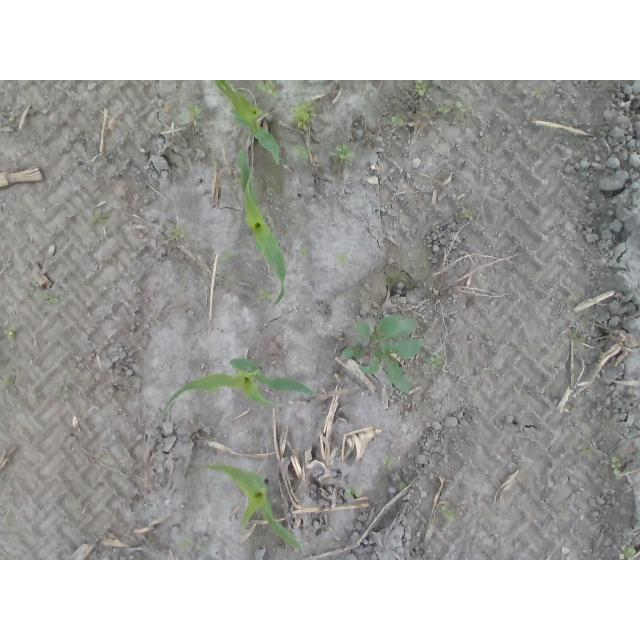Maize: (164, 357, 317, 420), (198, 463, 304, 552), (234, 149, 288, 309), (212, 80, 280, 165)
Weeds: (341, 313, 430, 395), (286, 102, 316, 127), (328, 145, 357, 167), (178, 534, 207, 554), (435, 102, 468, 119), (256, 85, 281, 102), (182, 106, 202, 127), (292, 145, 313, 161), (618, 544, 637, 561), (39, 291, 62, 305), (429, 354, 445, 374), (89, 211, 111, 225), (342, 488, 362, 502), (413, 80, 429, 97), (441, 503, 456, 521), (257, 287, 276, 301), (611, 456, 624, 476), (381, 455, 396, 472), (219, 252, 240, 264), (570, 331, 588, 345), (390, 114, 407, 128), (168, 225, 183, 240), (101, 449, 116, 464), (336, 254, 353, 266), (298, 245, 310, 259), (1, 374, 10, 391), (5, 325, 15, 340), (481, 365, 497, 374), (530, 89, 542, 99), (461, 211, 471, 221), (27, 108, 38, 117), (398, 482, 407, 491), (8, 118, 16, 125)
